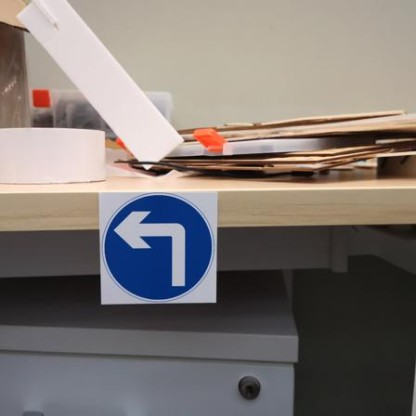left: (96, 181, 230, 322)
